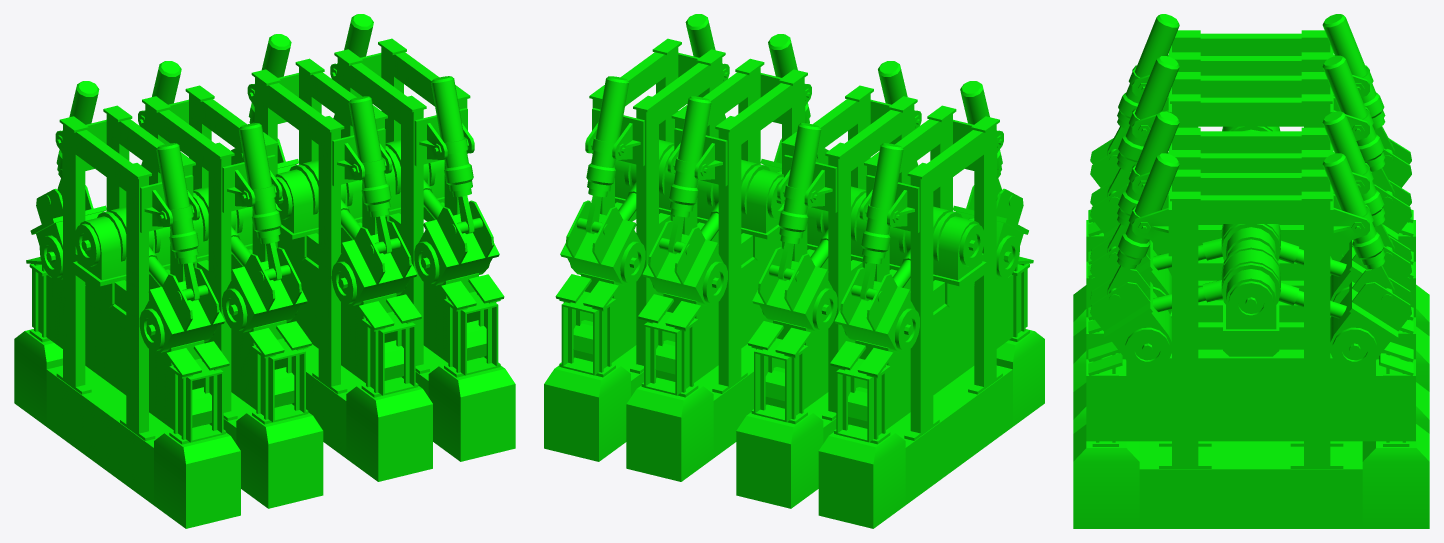
The model's file is Casting_Machine01.fbx.
3 views of the same model, side by side, from view 1: azimuth 30°, elevation 25°; view 2: azimuth 150°, elevation 25°; view 3: azimuth 270°, elevation 25° (orthographic). The views are drawn at different scales.
Visible parts, largest first — view 1: Casting_Machine01_LOD0; view 2: Casting_Machine01_LOD0; view 3: Casting_Machine01_LOD0.
Boxes of the visible parts, x1,y1,x2,y2 form: Casting_Machine01_LOD0: (14,14,515,528); Casting_Machine01_LOD0: (544,14,1044,528); Casting_Machine01_LOD0: (1073,14,1429,528).
Size of what is drawn, in the model's own units: 329 by 301 by 270.
